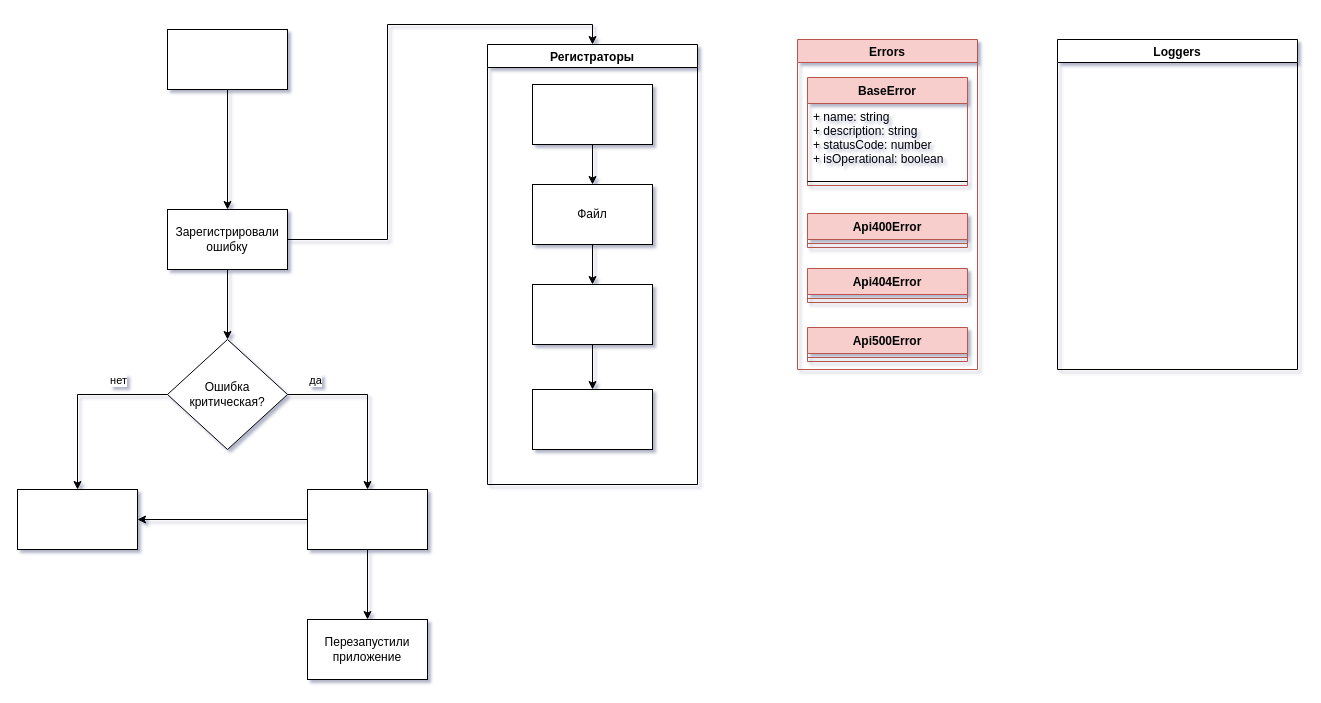
The diagram is 1321 pixels wide and 703 high, and some of its shapes have lost their labels. The centre of each missing label's shape, as x and y in pixels:
Информировали пользователя: the point at 77,519
Информировали разработчика: the point at 367,519
Консоль: the point at 592,114
Пришла ошибка: the point at 227,59
Сентри: the point at 592,419
Телеграм: the point at 592,314
